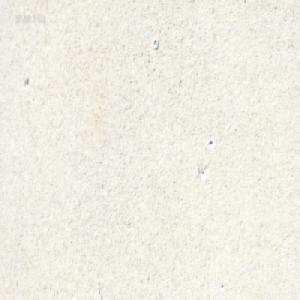Washer: (152, 38, 158, 49)
